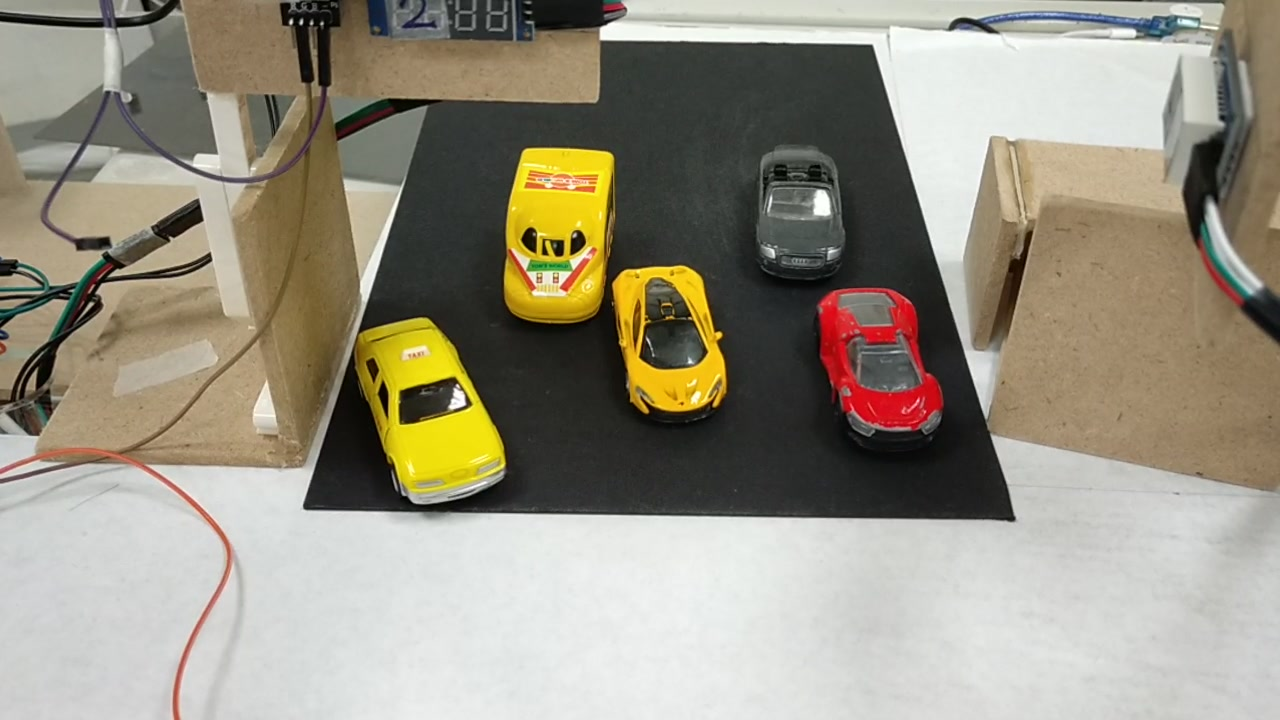car: (350, 324, 505, 501), (818, 290, 937, 444), (615, 261, 728, 419), (751, 142, 845, 276)
